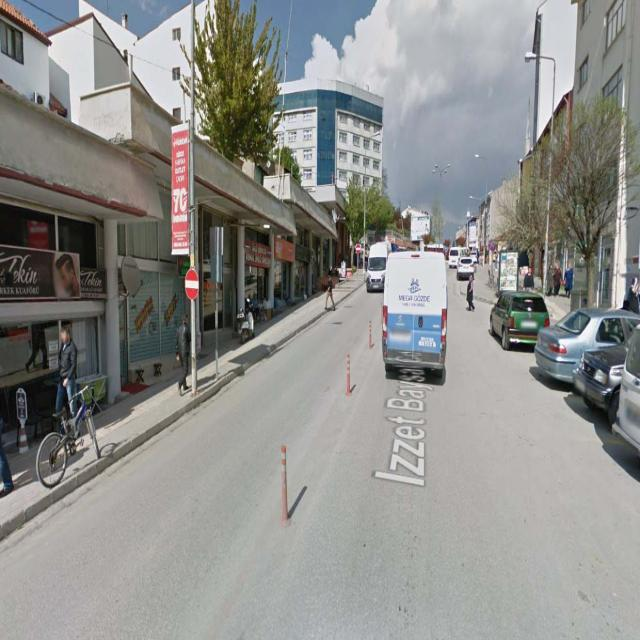girisyok: (185, 270, 198, 300), (355, 245, 360, 255)
